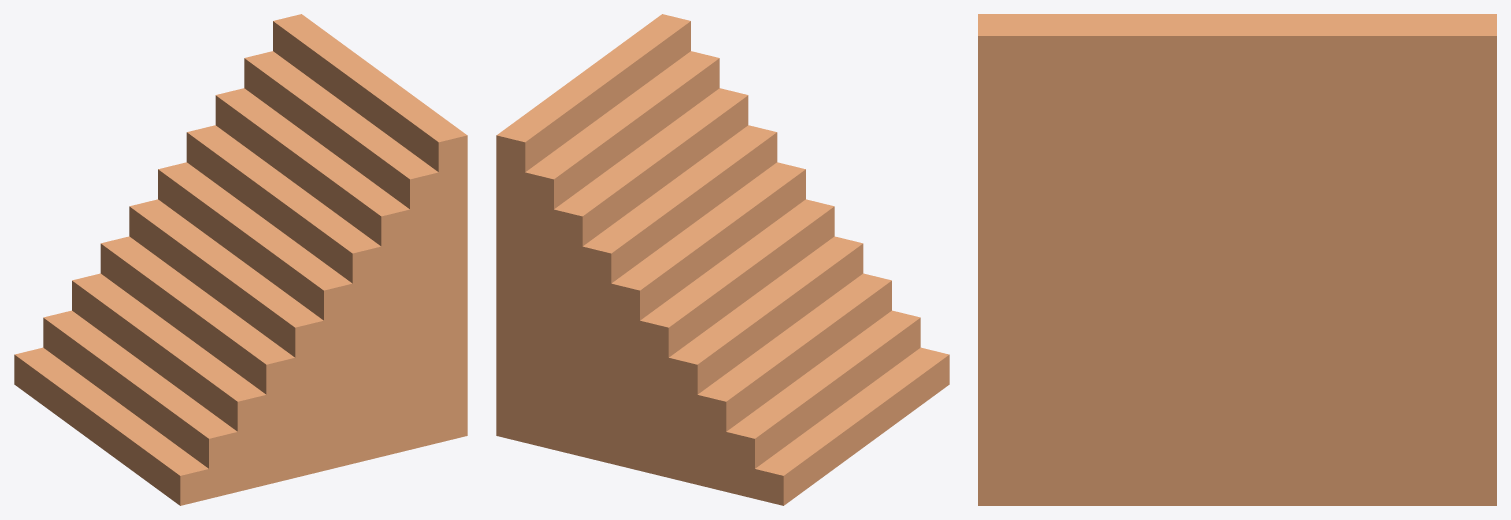
File: Stairs_004.fbx
3 views of the same model, side by side, from view 1: azimuth 30°, elevation 25°; view 2: azimuth 150°, elevation 25°; view 3: azimuth 270°, elevation 25° (orthographic). The views are drawn at different scales.
Parts seen in each view (by area): view 1: Stairs.004; view 2: Stairs.004; view 3: Stairs.004.
Boxes of the visible parts, x1,y1,x2,y2 form: Stairs.004: (14,14,467,505); Stairs.004: (496,14,949,505); Stairs.004: (978,14,1496,505).
Size of the model in its own units: 100 by 100 by 100.
